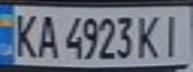2: (97, 12, 118, 61)
3: (115, 12, 139, 61)
4: (60, 12, 84, 60)
9: (78, 12, 100, 61)
A: (33, 11, 60, 60)
I: (157, 10, 190, 58)
K: (9, 9, 42, 60), (136, 11, 166, 60)
